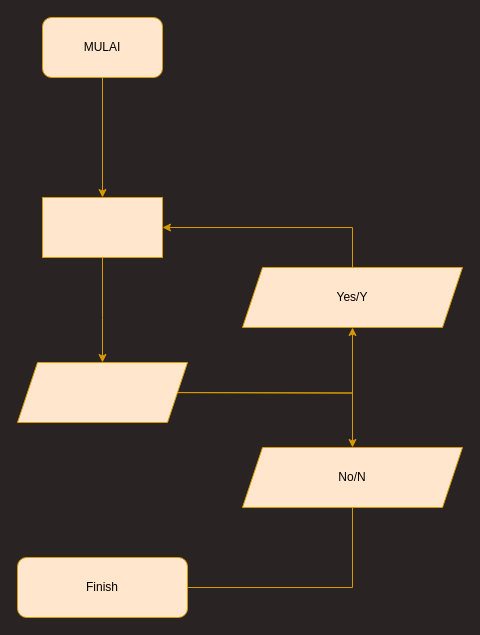
The diagram is 480 pixels wide and 635 high, and some of its shapes have lost their labels. The centre of each missing label's shape, as x and y in pixels:
"HASIL STATMENT" goes at pixel 102 392.
"STATMENT" goes at pixel 102 227.
